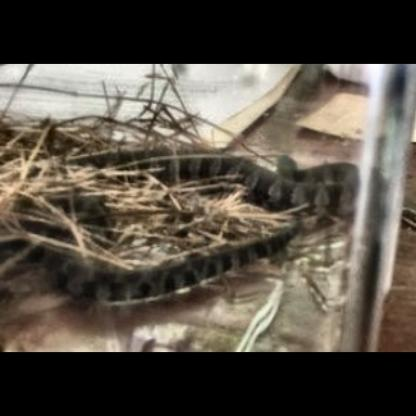Snake: (6, 68, 415, 360)
